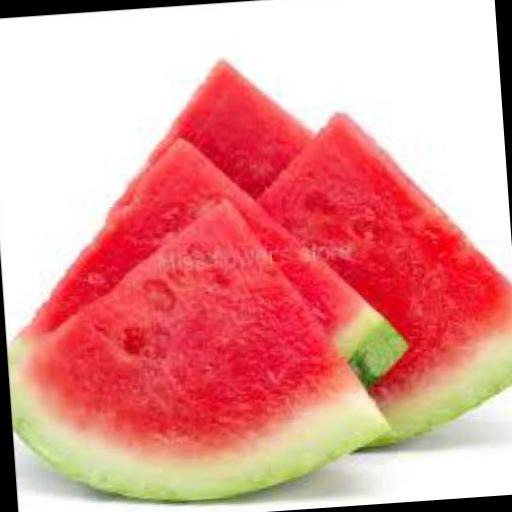biodegradable: (0, 183, 393, 504), (0, 118, 407, 409), (16, 50, 326, 388), (244, 96, 512, 455)
